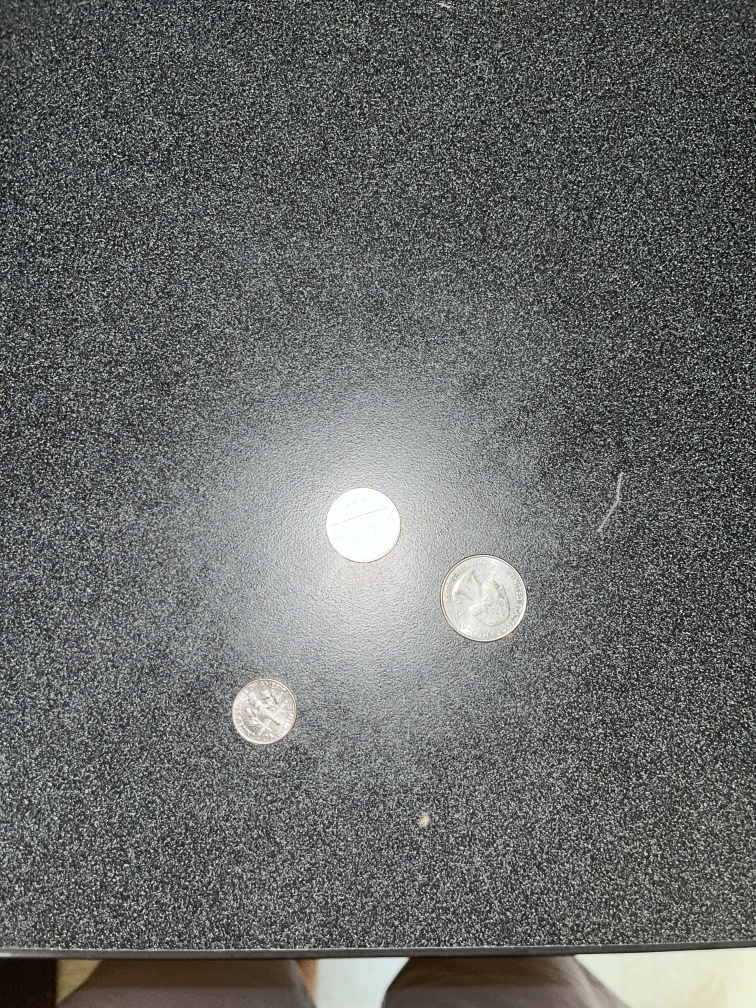dime: (224, 674, 302, 751)
nickel: (323, 482, 404, 568)
quarter: (437, 550, 531, 652)
